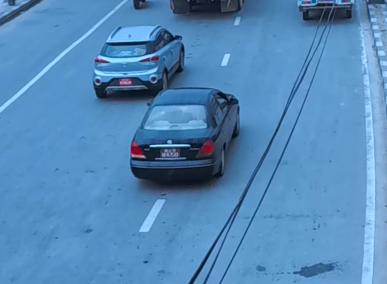car: (130, 86, 253, 189), (98, 21, 185, 96)
